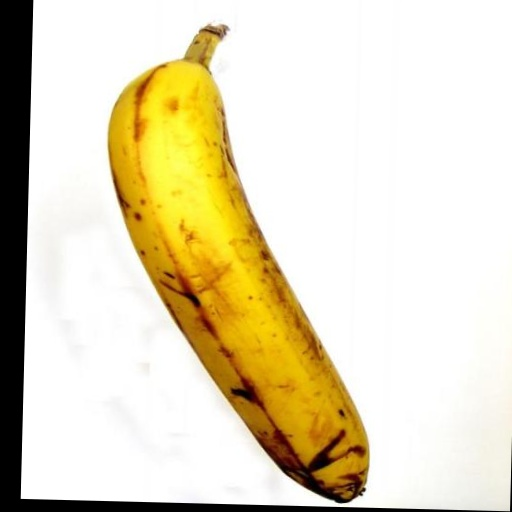fruit: (108, 26, 368, 502)
